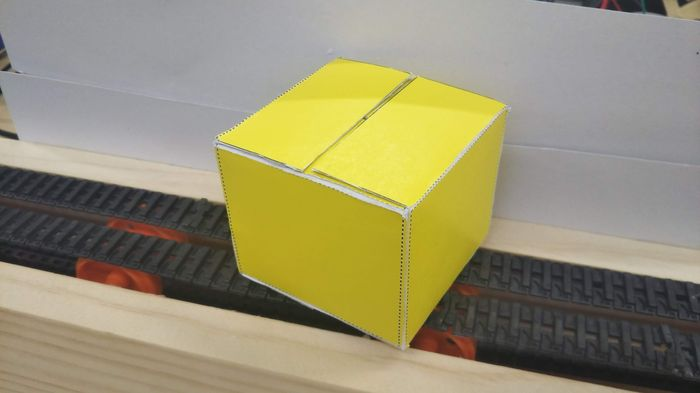box4: (207, 51, 508, 346)
